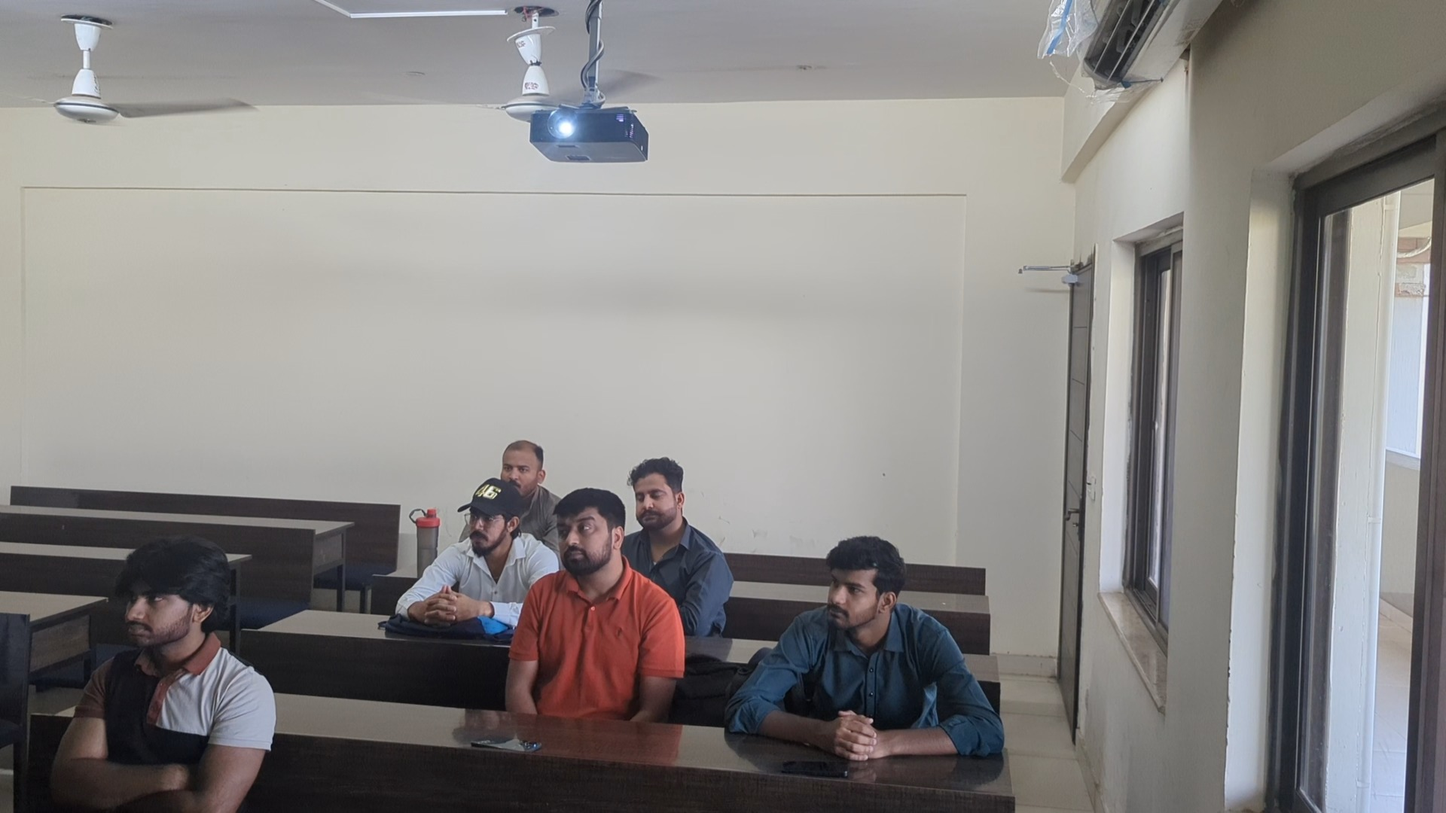look_forward: (121, 538, 296, 723), (805, 524, 941, 734), (550, 491, 637, 728), (620, 448, 725, 591), (444, 484, 537, 639), (498, 430, 587, 540)
